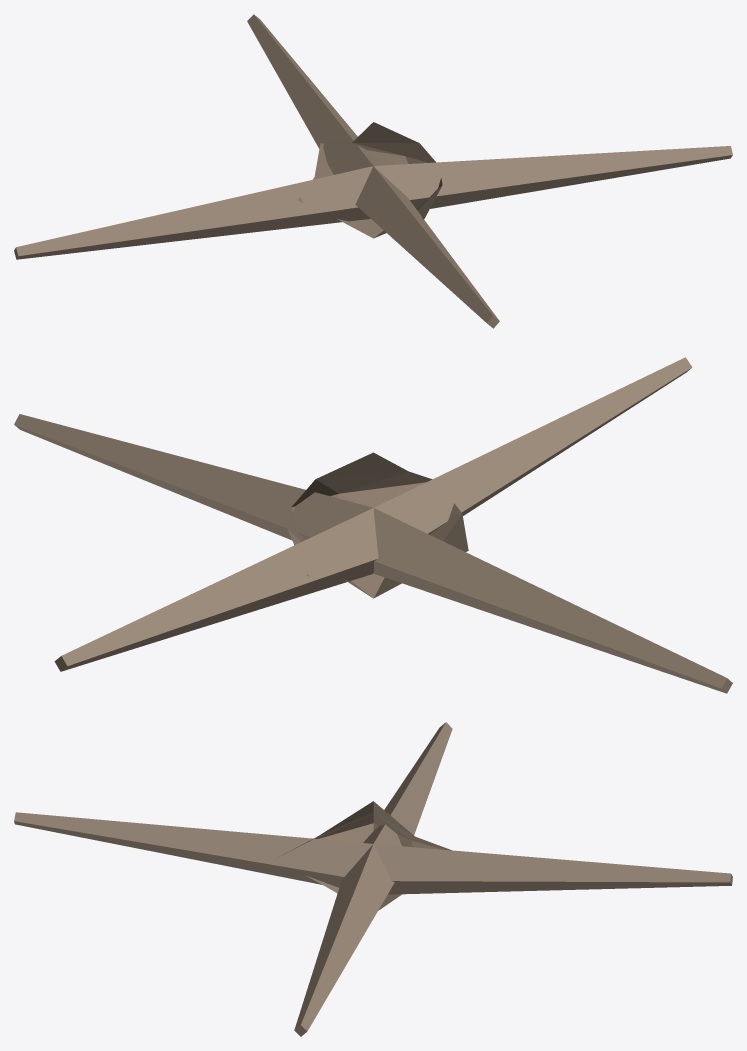
3 renders of one model, top to bottom at view 1: azimuth 30°, elevation 25°; view 2: azimuth 150°, elevation 25°; view 3: azimuth 270°, elevation 25°, orthographic. The views are drawn at different scales.
Parts seen in each view (by area): view 1: lod0; view 2: lod0; view 3: lod0.
Boxes of the visible parts, <box> form: lod0: <box>14,14,732,328</box>; lod0: <box>14,357,732,693</box>; lod0: <box>14,722,732,1036</box>.
Size of what is drawn, in the model's own units: 1.28 by 0.2221 by 1.28.
